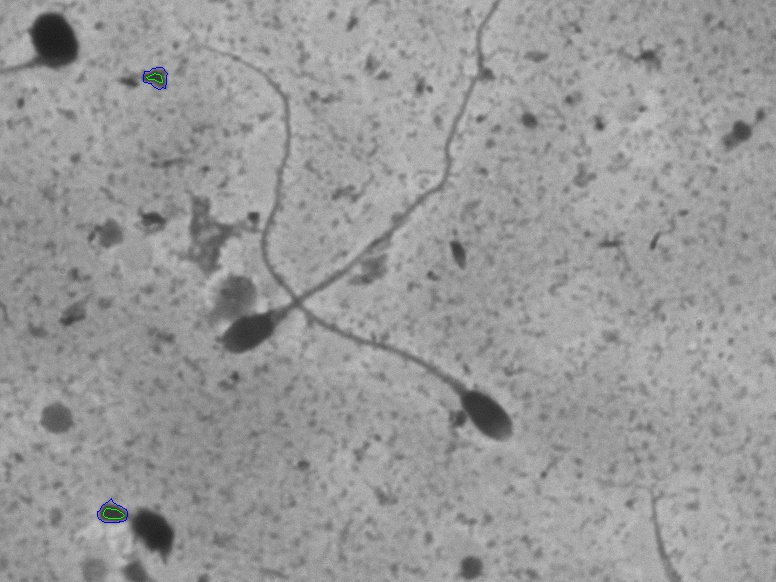Normal: (173, 31, 541, 463), (209, 10, 511, 367)
